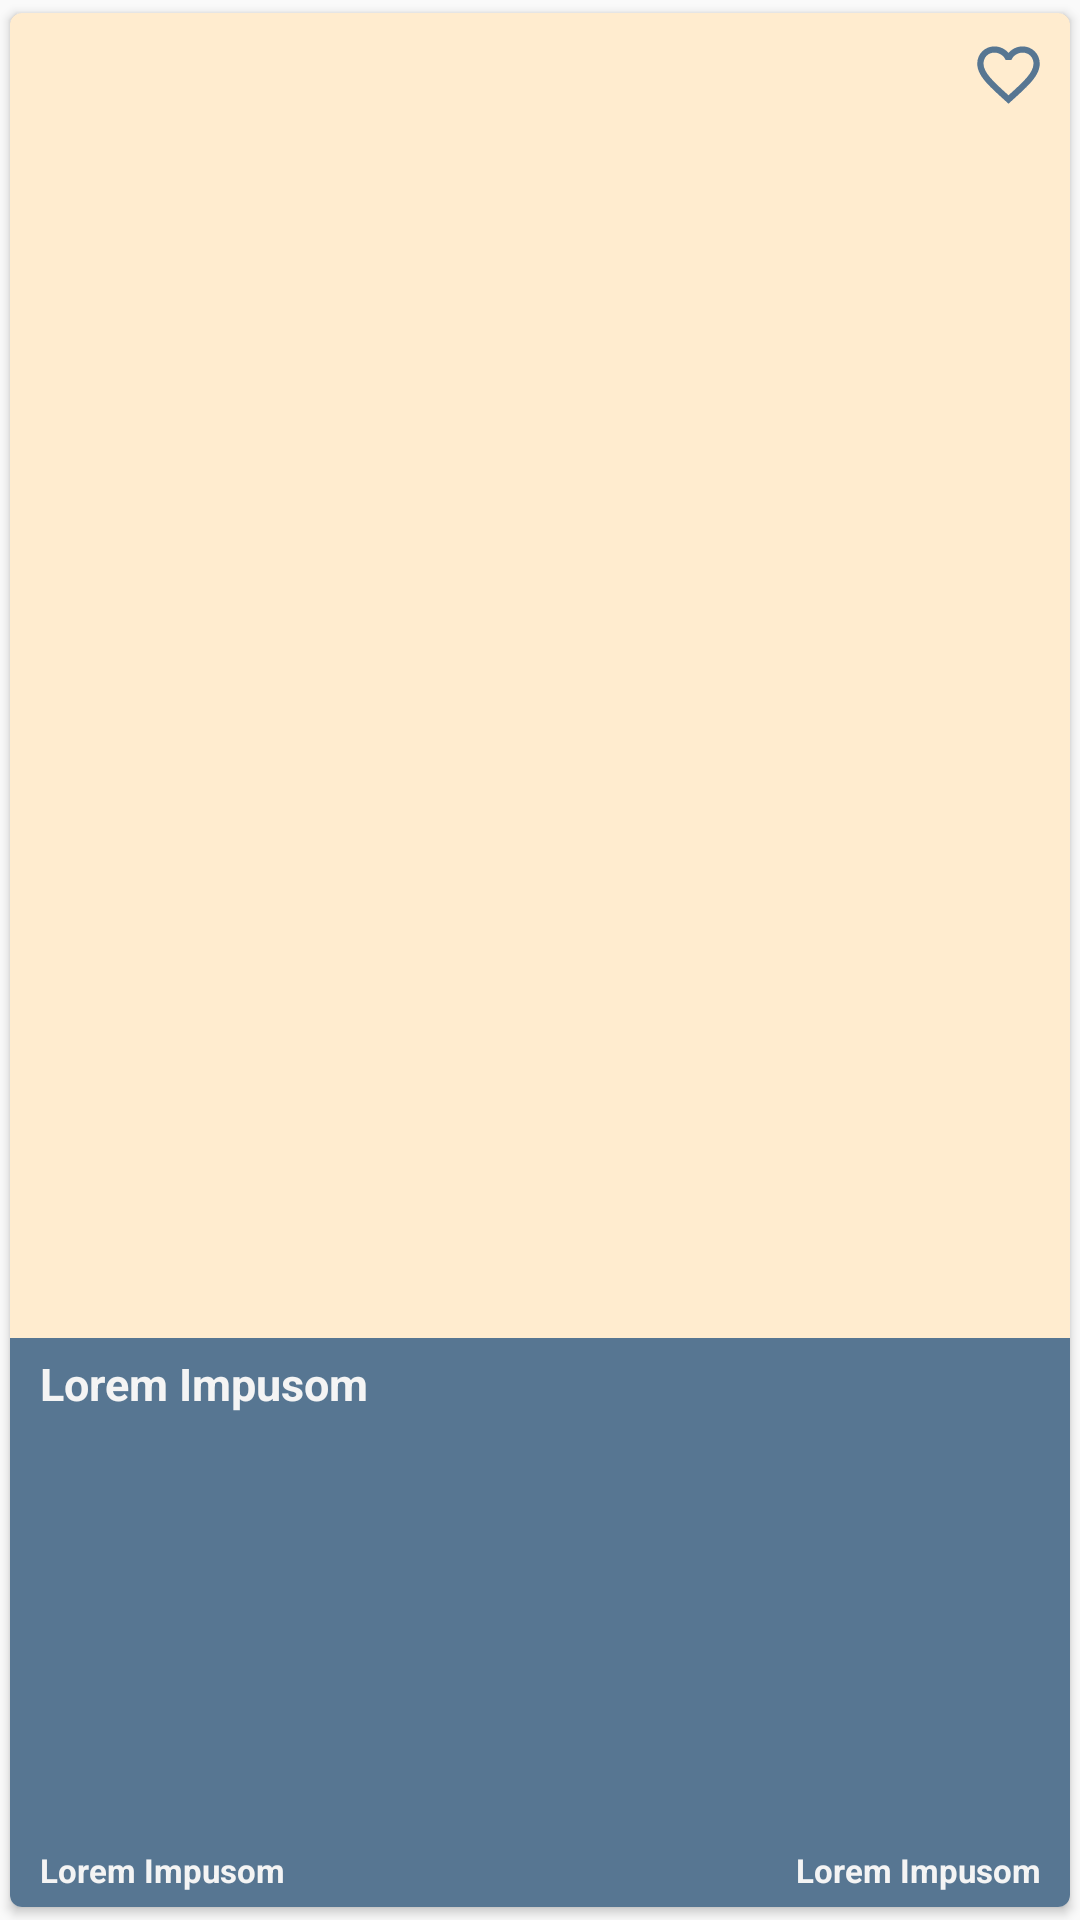

Named icons in this screenshot (1080 × 1920) and their centers, (x,y):
heart border: (1008,75)
